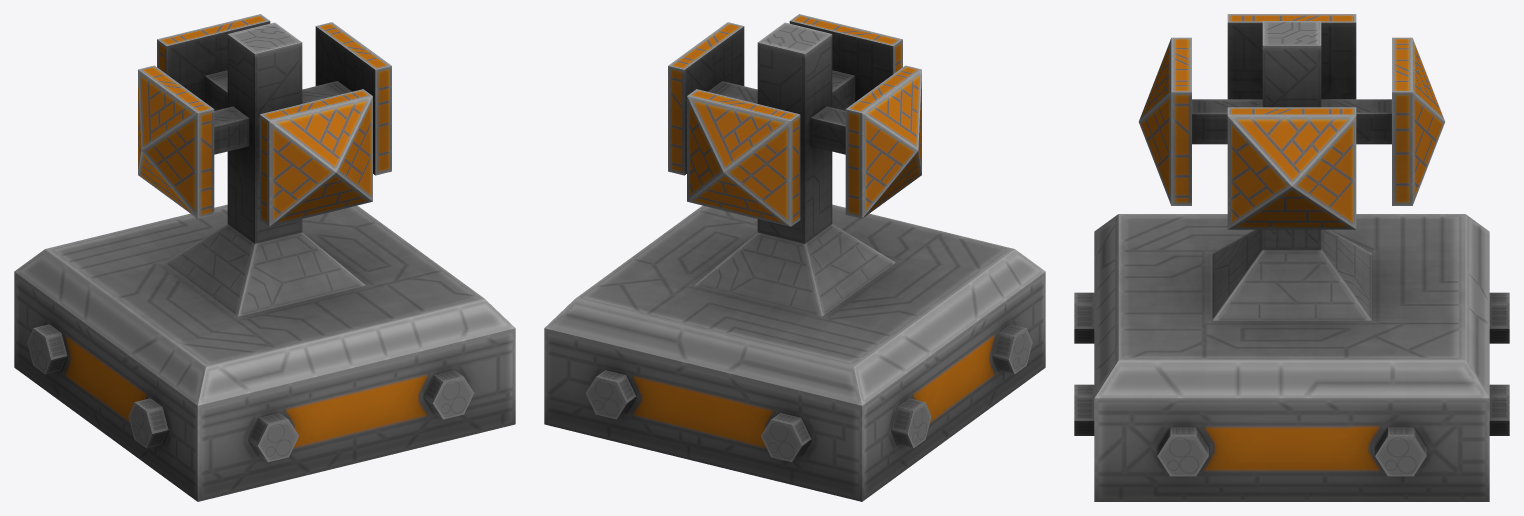
File: Comms.dae
3 views of the same model, side by side, from view 1: azimuth 30°, elevation 25°; view 2: azimuth 150°, elevation 25°; view 3: azimuth 270°, elevation 25° (orthographic). The views are drawn at different scales.
Visible parts, largest first — view 1: Comms; view 2: Comms; view 3: Comms.
Part boxes in pixels (bbox=[...]): Comms: bbox=[14, 14, 515, 501]; Comms: bbox=[544, 14, 1045, 501]; Comms: bbox=[1074, 14, 1509, 501].
Bounding box in the file's own units: 2 × 1.95 × 2.
